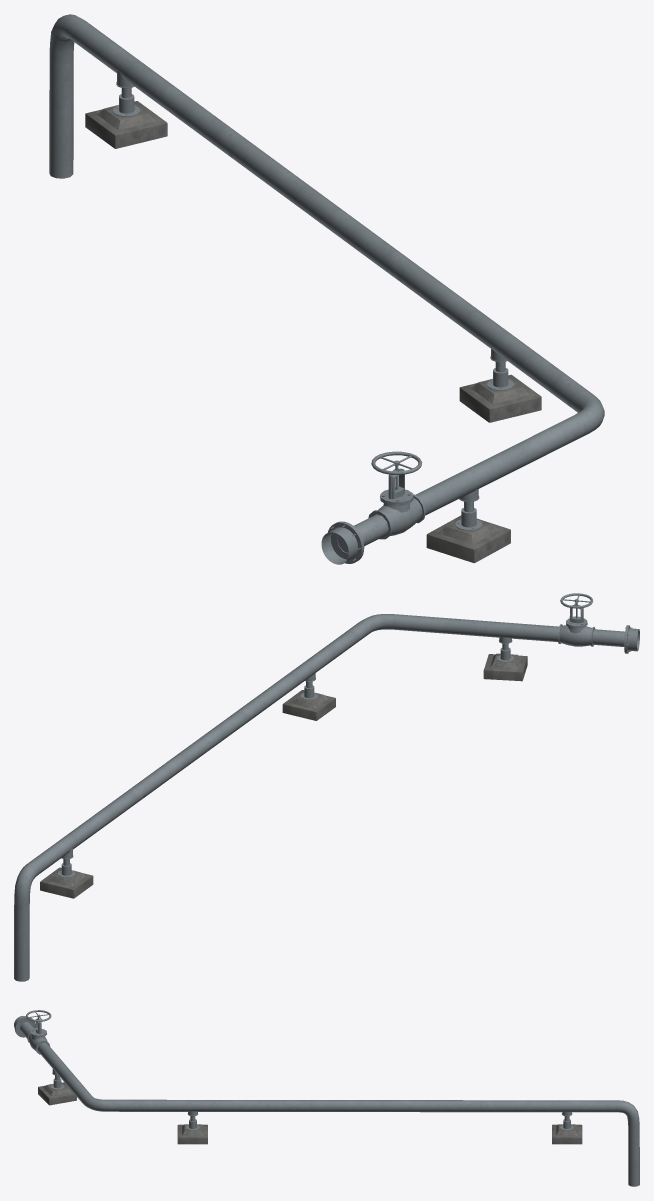
File: SM_FuelPipe_4.fbx
3 renders of one model, top to bottom at view 1: azimuth 30°, elevation 25°; view 2: azimuth 150°, elevation 25°; view 3: azimuth 270°, elevation 25°, orthographic. The views are drawn at different scales.
Visible parts, largest first — view 1: SM_FuelPipe_4_LOD0; view 2: SM_FuelPipe_4_LOD0; view 3: SM_FuelPipe_4_LOD0.
Boxes of the visible parts, left/top/right/bottom form: SM_FuelPipe_4_LOD0: left=49, top=14, right=604, bottom=564; SM_FuelPipe_4_LOD0: left=14, top=593, right=639, bottom=981; SM_FuelPipe_4_LOD0: left=14, top=1010, right=639, bottom=1186.
Size of the model in its own units: 420 by 1237 by 231.
2 materials, 2 textured.
